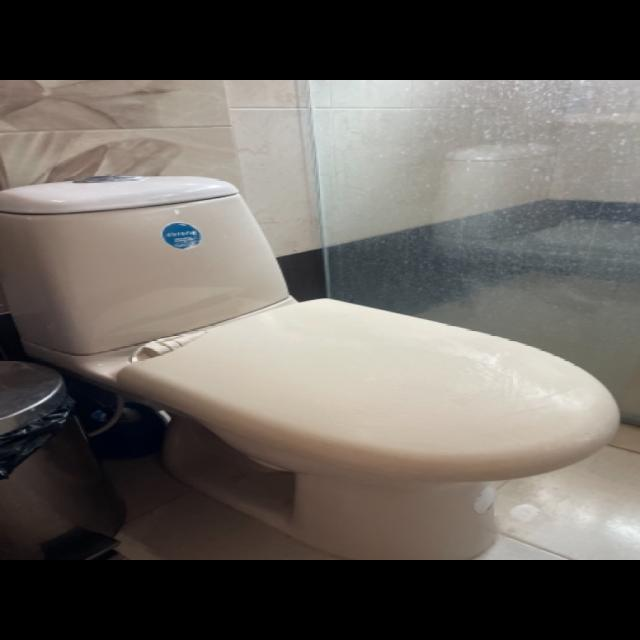toilet: (0, 174, 621, 559)
